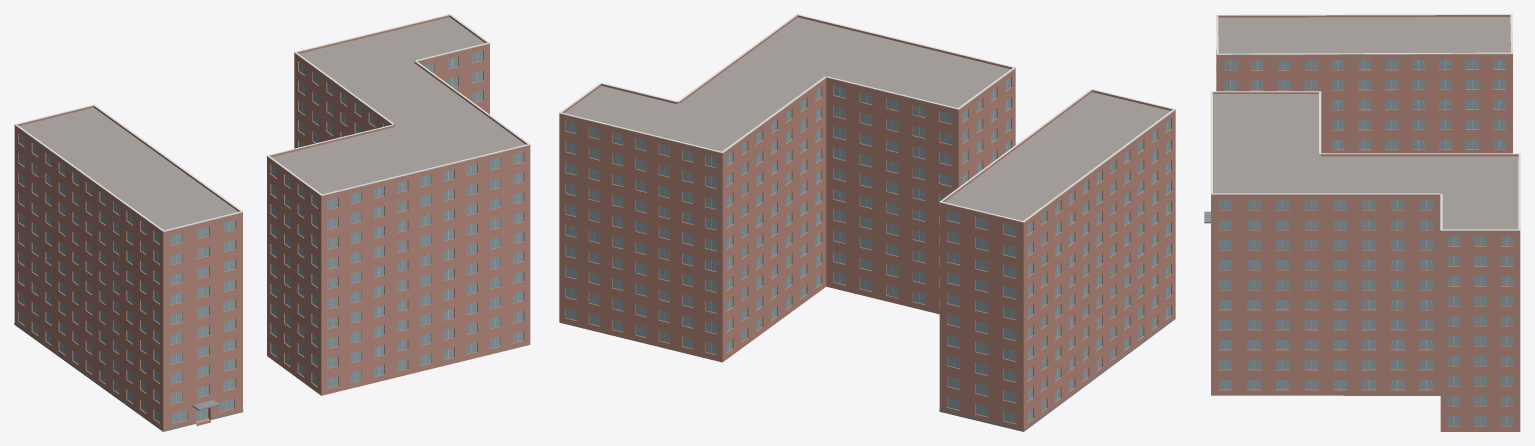
3 views of the same model, side by side, from view 1: azimuth 30°, elevation 25°; view 2: azimuth 150°, elevation 25°; view 3: azimuth 270°, elevation 25° (orthographic). The views are drawn at different scales.
Parts seen in each view (by area): view 1: b16784615__wall, b16784615__roof, b16784615__glass, b16784615__trim, b16784615__parapet, b16784615__frame, b16784615__base; view 2: b16784615__wall, b16784615__roof, b16784615__glass, b16784615__trim, b16784615__parapet, b16784615__frame, b16784615__base; view 3: b16784615__wall, b16784615__roof, b16784615__glass, b16784615__trim, b16784615__parapet, b16784615__frame.
Boxes of the visible parts, box(x1,y1,x2,y2) form: b16784615__wall: box(14, 45, 530, 431); b16784615__roof: box(19, 17, 525, 230); b16784615__glass: box(19, 51, 523, 423); b16784615__trim: box(14, 14, 530, 231); b16784615__parapet: box(14, 15, 530, 233); b16784615__frame: box(22, 52, 518, 421); b16784615__base: box(14, 323, 243, 431); b16784615__wall: box(559, 70, 1175, 431); b16784615__roof: box(564, 17, 1170, 220); b16784615__glass: box(566, 77, 1170, 423); b16784615__trim: box(559, 14, 1175, 222); b16784615__parapet: box(559, 15, 1175, 223); b16784615__frame: box(571, 80, 1167, 421); b16784615__base: box(939, 317, 1175, 431); b16784615__wall: box(1211, 50, 1520, 431); b16784615__roof: box(1213, 17, 1518, 229); b16784615__glass: box(1218, 59, 1513, 425); b16784615__trim: box(1210, 14, 1520, 230); b16784615__parapet: box(1211, 15, 1520, 231); b16784615__frame: box(1225, 59, 1507, 425).
Bounding box in the file's own units: 83.59 × 36.75 × 51.66.
